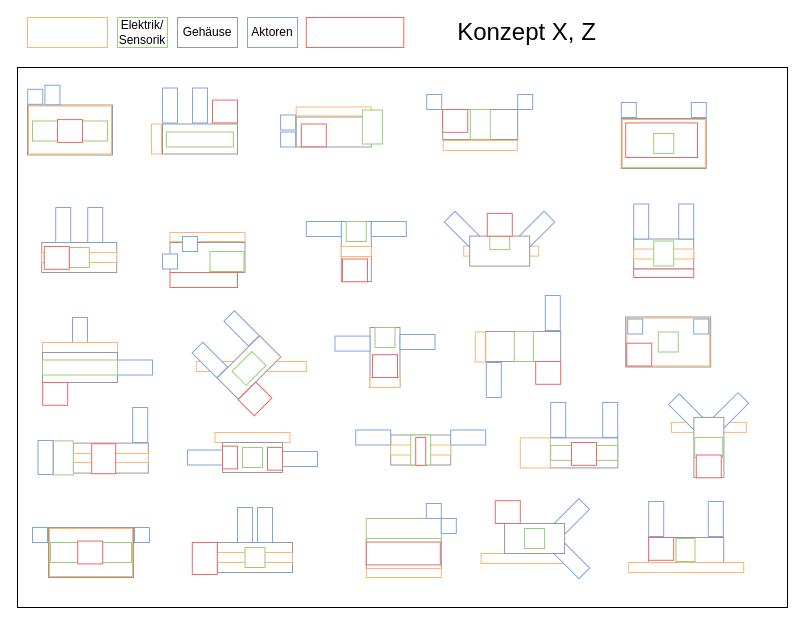
Some shapes in this 805 by 625 pixel diagram are drawn without their labels. The shapes that lost their labels are listed below. From the top down, each one's centre as x and y in pixels, then its label:
At pixel 67 32: "Fortbewegung".
At pixel 354 32: "Sammelbehälter".
